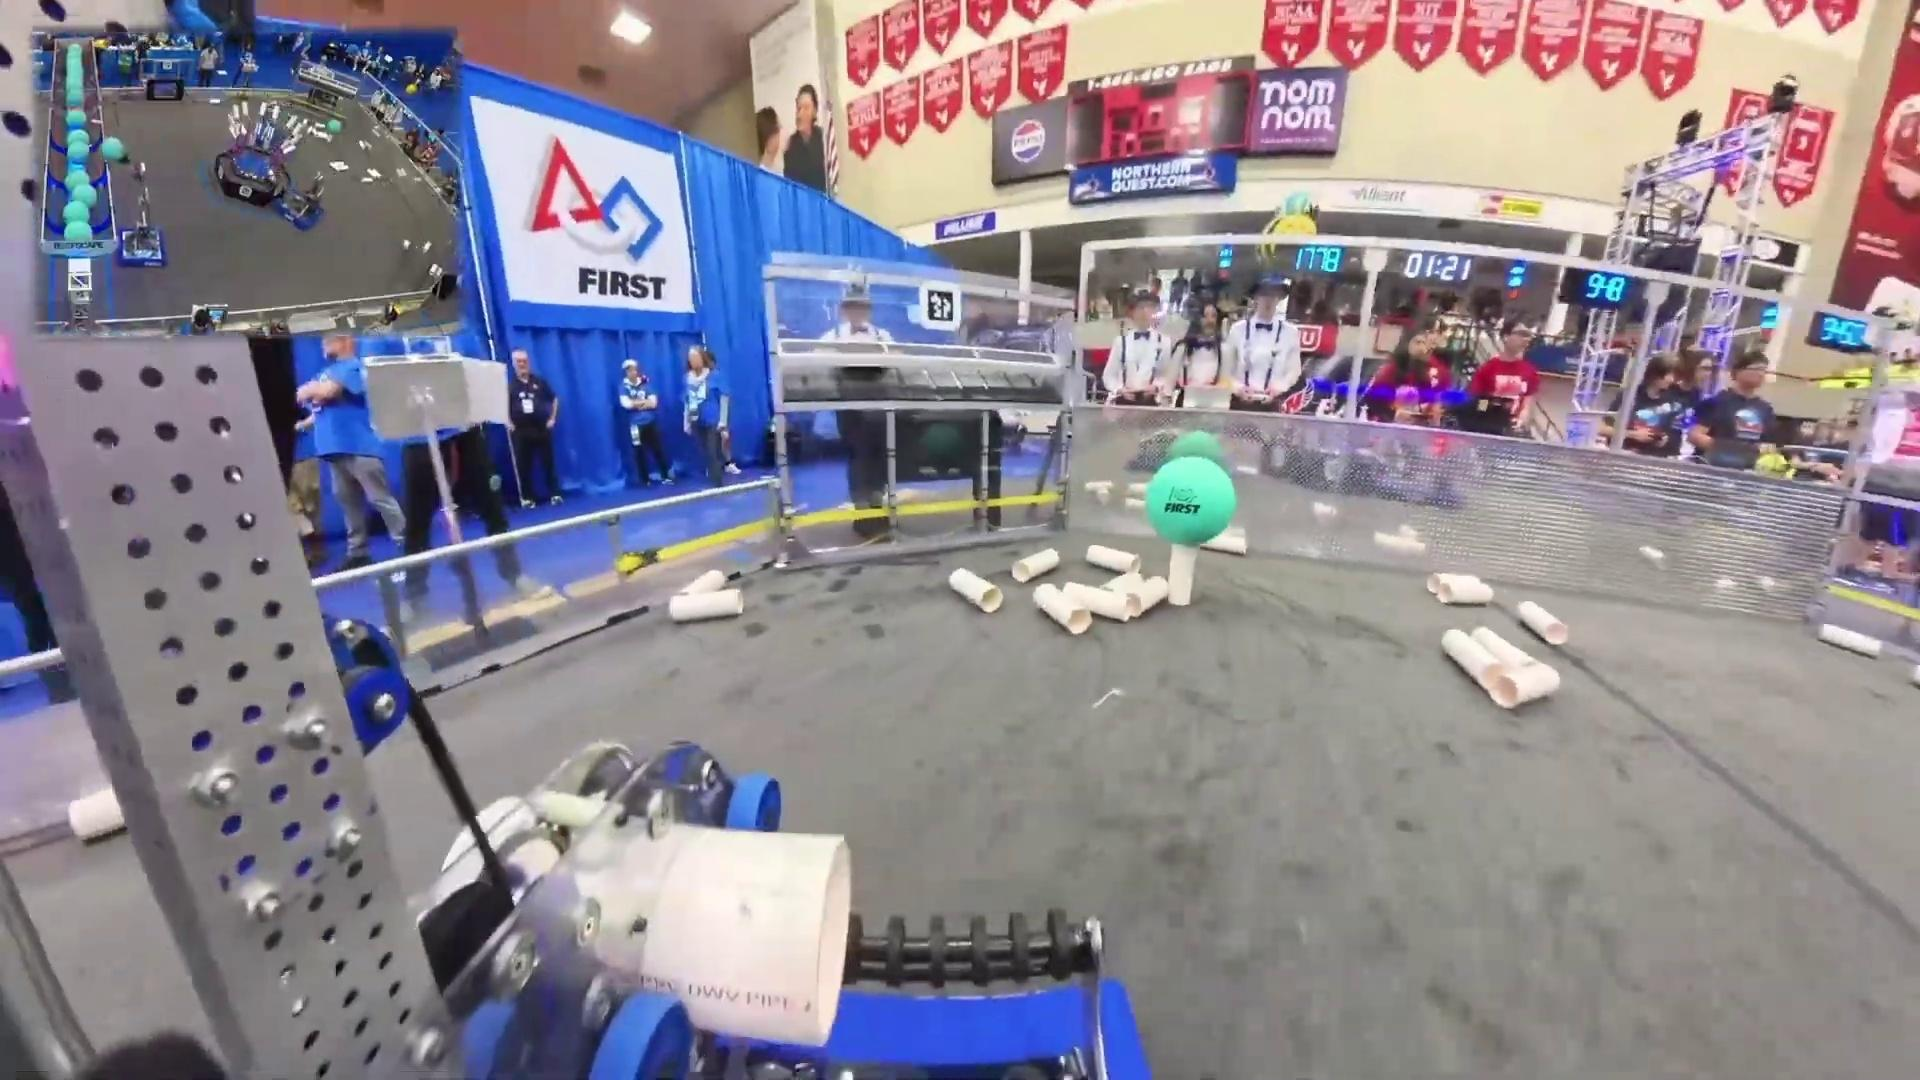robot: (115, 167, 171, 273), (276, 169, 330, 236)
